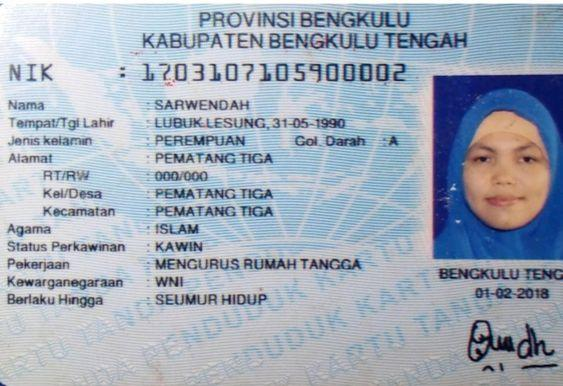ID-card: (1, 6, 561, 383)
